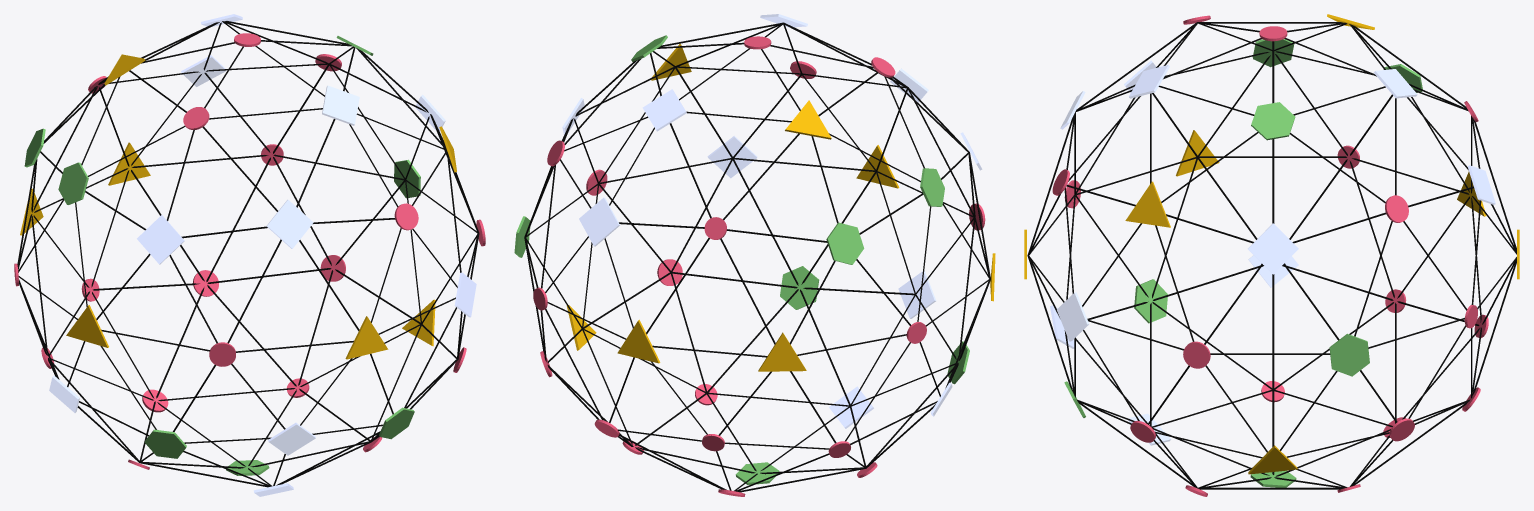
The model's file is wtf-01.glb.
3 views of the same model, side by side, from view 1: azimuth 30°, elevation 25°; view 2: azimuth 150°, elevation 25°; view 3: azimuth 270°, elevation 25° (orthographic). The views are drawn at different scales.
Parts seen in each view (by area): view 1: wireisosphereV4.001; view 2: wireisosphereV4.001; view 3: wireisosphereV4.001.
Boxes of the visible parts, <box> form: wireisosphereV4.001: <box>14,14,485,496</box>; wireisosphereV4.001: <box>514,14,995,496</box>; wireisosphereV4.001: <box>1024,14,1519,496</box>.
Bounding box in the file's own units: 3.43 × 3.46 × 3.46.
